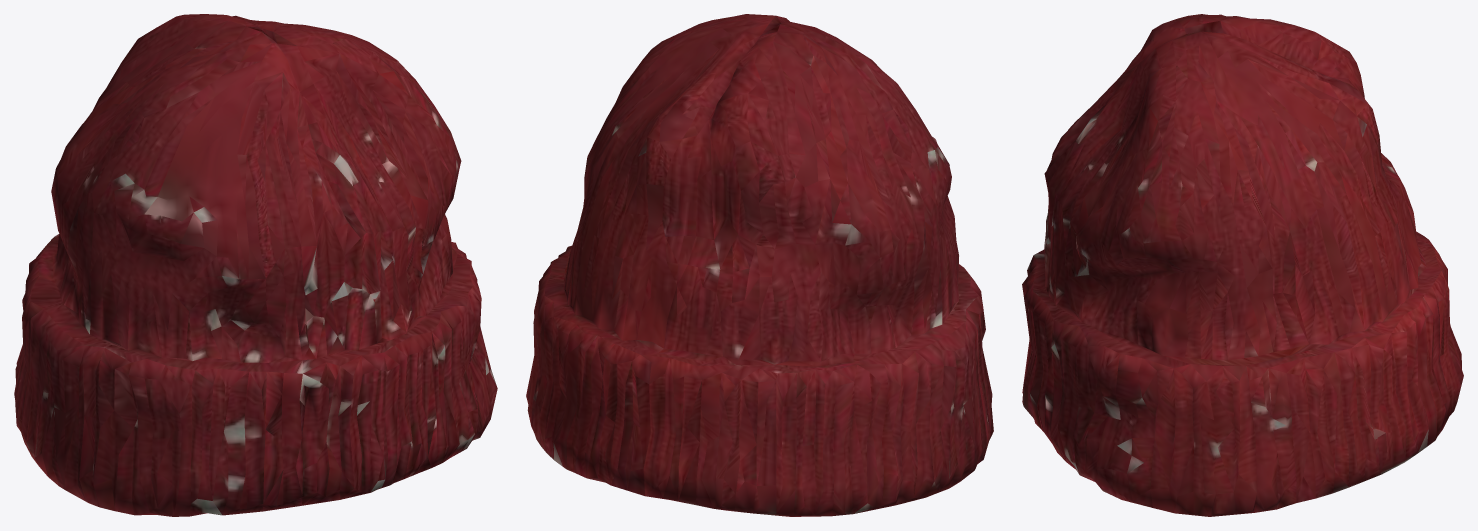
File: hat-beanie.glb
The picture shows the model from 3 angles, left to right: view 1: azimuth 30°, elevation 25°; view 2: azimuth 150°, elevation 25°; view 3: azimuth 270°, elevation 25°; orthographic projection. The views are drawn at different scales.
Parts seen in each view (by area): view 1: hat-beanie; view 2: hat-beanie; view 3: hat-beanie.
Part boxes in pixels (x1,y1,x2,y2): hat-beanie: [14, 14, 497, 516]; hat-beanie: [526, 14, 993, 516]; hat-beanie: [1022, 14, 1463, 516].
Size of the model in its own units: 0.3161 by 0.3 by 0.3016.
1 material, 1 textured.
